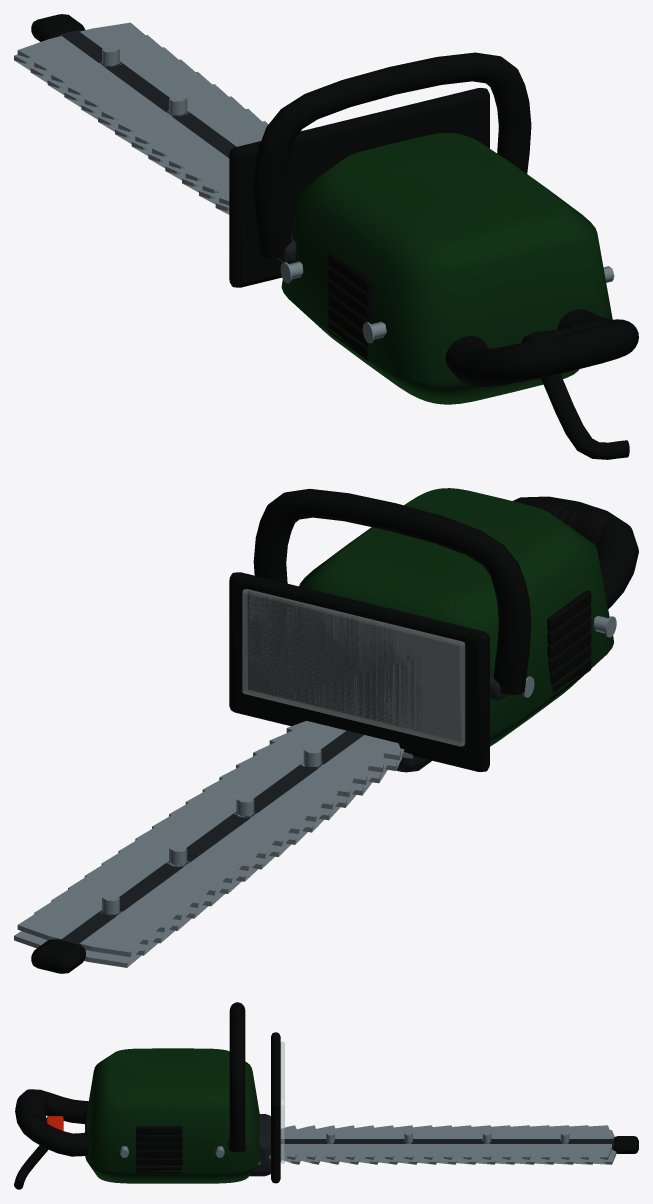
File: ElectricHedgeTrimmer.fbx
The picture shows the model from 3 angles, top to bottom: view 1: azimuth 30°, elevation 25°; view 2: azimuth 150°, elevation 25°; view 3: azimuth 270°, elevation 25°; orthographic projection. The views are drawn at different scales.
Parts seen in each view (by area): view 1: ElectricHedgeTrimmer__Body; view 2: ElectricHedgeTrimmer__Body, ElectricHedgeTrimmer__Glass_HandGuard; view 3: ElectricHedgeTrimmer__Body, ElectricHedgeTrimmer__Glass_HandGuard.
Part boxes in pixels (x1=…): ElectricHedgeTrimmer__Body: x1=14, y1=14, x2=638, y2=459; ElectricHedgeTrimmer__Body: x1=14, y1=488, x2=638, y2=973; ElectricHedgeTrimmer__Glass_HandGuard: x1=242, y1=589, x2=465, y2=746; ElectricHedgeTrimmer__Body: x1=14, y1=1002, x2=638, y2=1189; ElectricHedgeTrimmer__Glass_HandGuard: x1=280, y1=1041, x2=284, y2=1163.
Size of the model in its own units: 30.8 by 28.09 by 104.
Materials: 2 (1 with a texture image).
